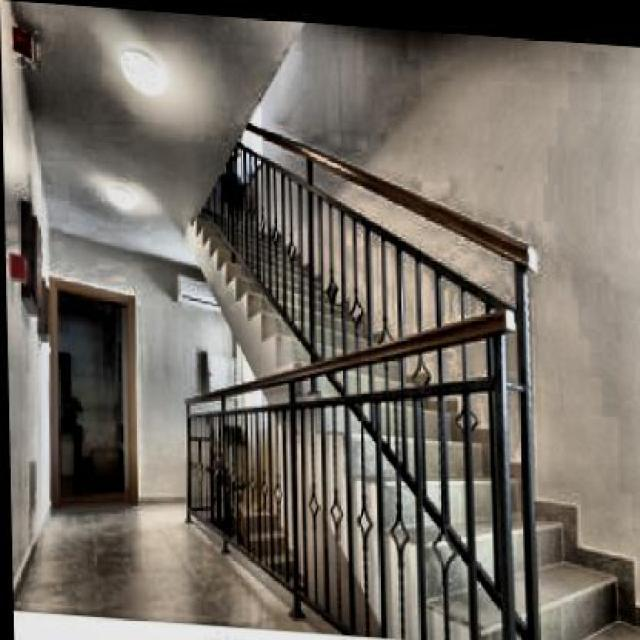stair: (194, 112, 638, 632)
